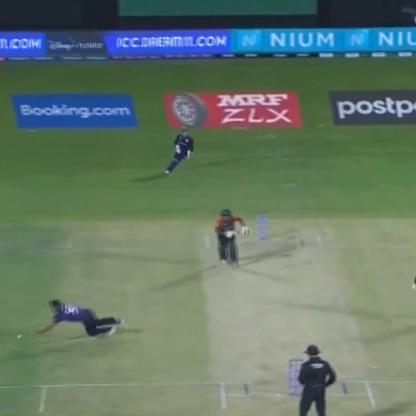ball: (11, 327, 26, 341)
pitch: (210, 231, 373, 415)
